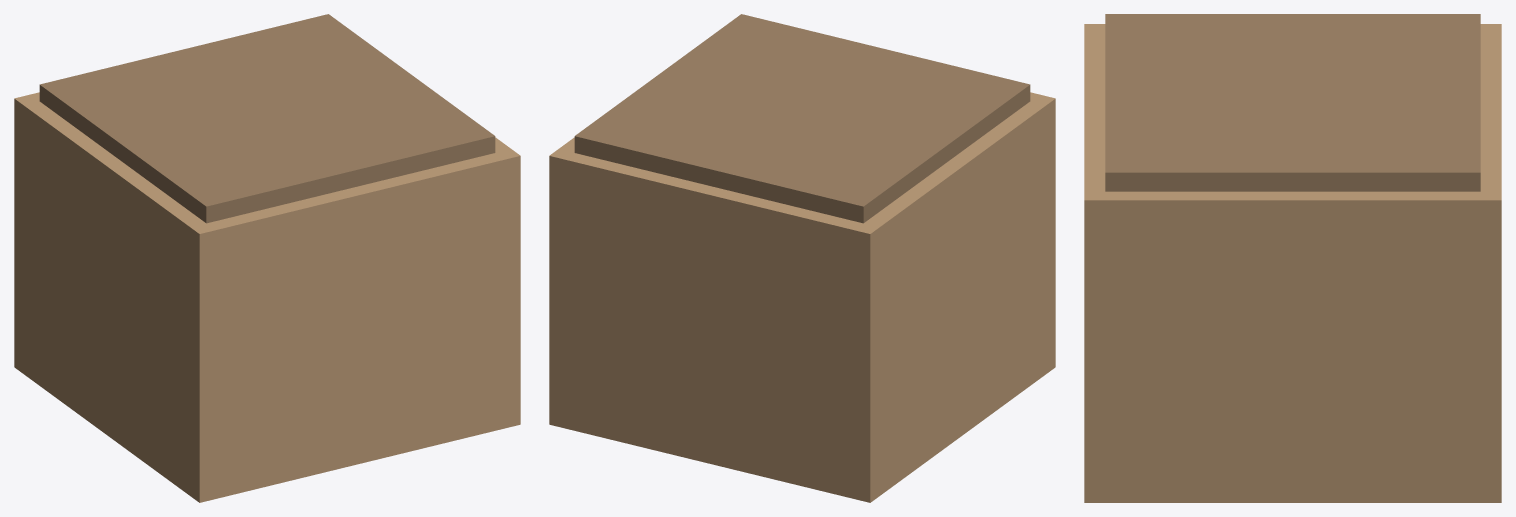
The model's file is Prop_DS_CompostBin_V1.glb.
The picture shows the model from 3 angles, left to right: view 1: azimuth 30°, elevation 25°; view 2: azimuth 150°, elevation 25°; view 3: azimuth 270°, elevation 25°; orthographic projection. The views are drawn at different scales.
Parts seen in each view (by area): view 1: Prop_DS_CompostBin_V1; view 2: Prop_DS_CompostBin_V1; view 3: Prop_DS_CompostBin_V1.
Boxes of the visible parts, x1,y1,x2,y2 form: Prop_DS_CompostBin_V1: (14,14,520,502); Prop_DS_CompostBin_V1: (549,14,1055,502); Prop_DS_CompostBin_V1: (1084,14,1501,502).
Size of the model in its own units: 1 by 0.85 by 1.
